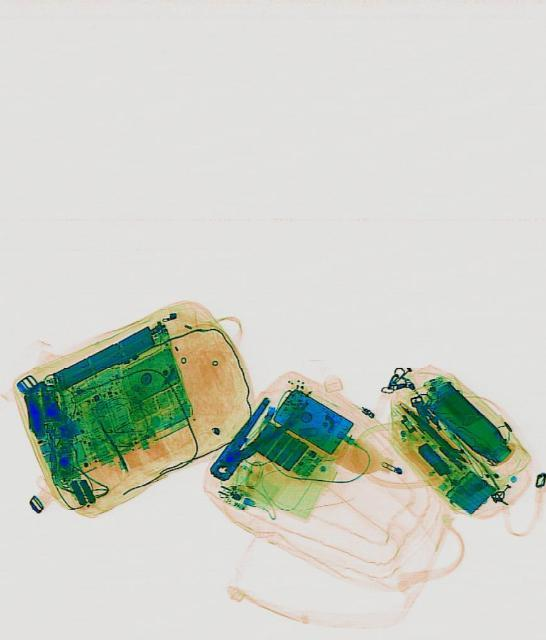Pliers: (199, 394, 291, 492)
